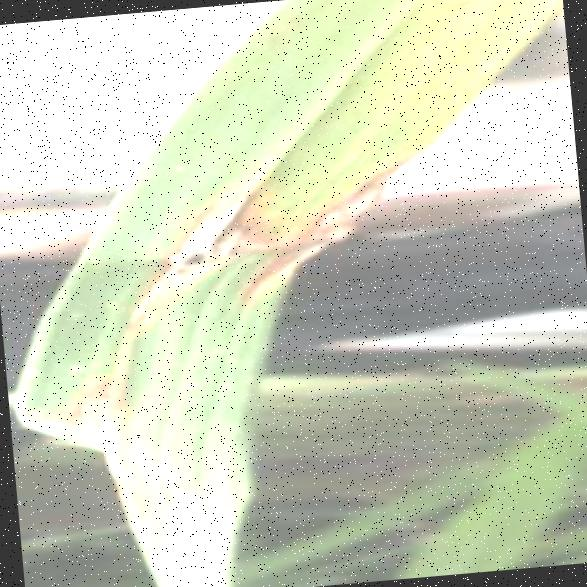Leaf_smut: (233, 140, 448, 319), (109, 154, 292, 360), (25, 356, 150, 502), (137, 452, 245, 584)
